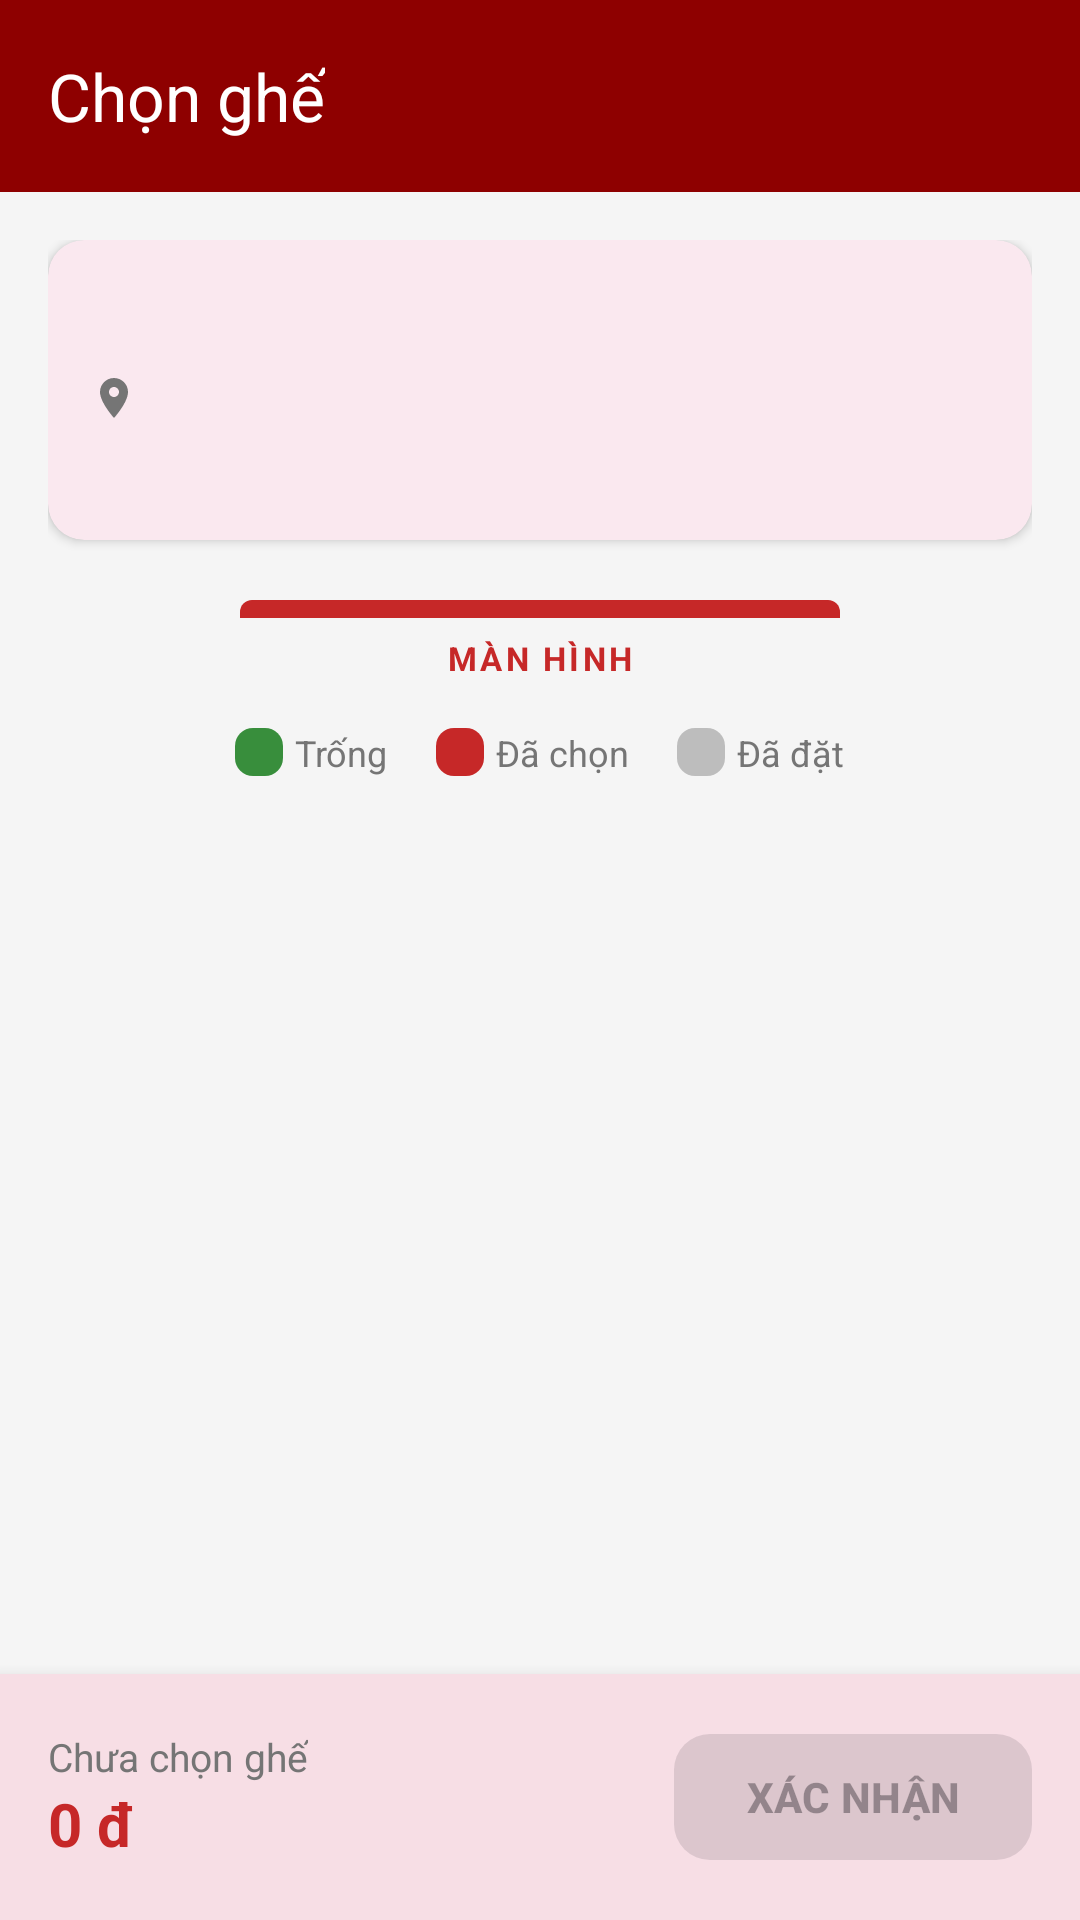

Icons on this 1080×1920 Android screen, each with the point to tap as (x=x, y=y):
location: (x=114, y=398)
